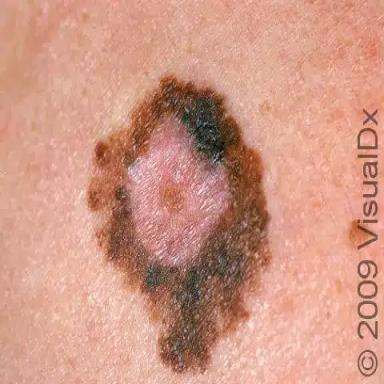Melanoma: (85, 73, 273, 373)
